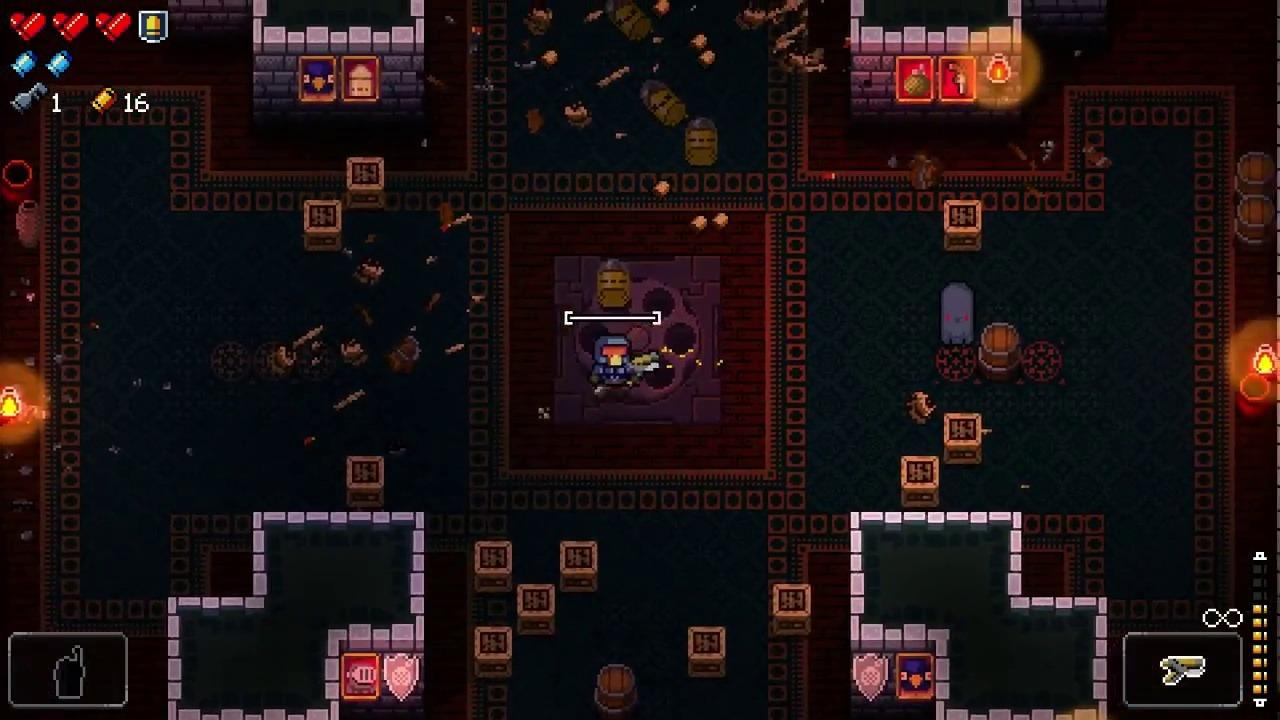dead_bullet_kin: (602, 0, 656, 43), (641, 80, 686, 126), (597, 255, 631, 309), (684, 117, 719, 168)
hollowpoint: (940, 281, 975, 346)
player: (594, 335, 633, 386)
teleporter: (553, 253, 721, 427)
